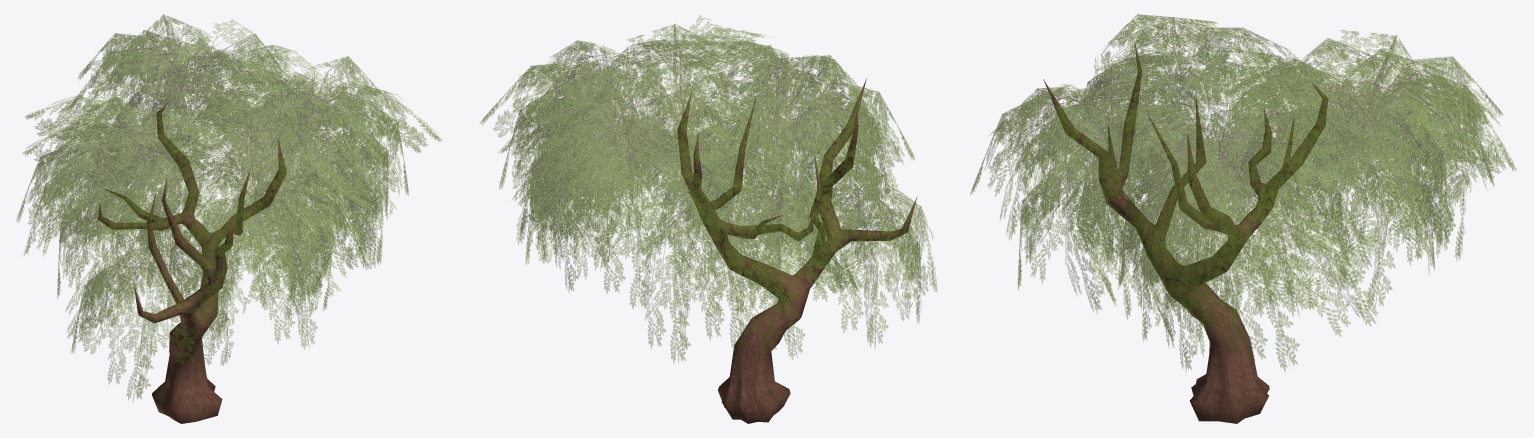
The model's file is tree0.DAE.
3 renders of one model, left to right at view 1: azimuth 30°, elevation 25°; view 2: azimuth 150°, elevation 25°; view 3: azimuth 270°, elevation 25°, orthographic. The views are drawn at different scales.
Parts seen in each view (by area): view 1: treebrown2_leaves.001, treebrown_002; view 2: treebrown2_leaves.001, treebrown_002; view 3: treebrown2_leaves.001, treebrown_002.
Part boxes in pixels (x1,y1,x2,y2): treebrown2_leaves.001: (16,14,441,402); treebrown_002: (98,101,286,423); treebrown2_leaves.001: (480,15,937,363); treebrown_002: (677,78,917,423); treebrown2_leaves.001: (970,14,1516,372); treebrown_002: (1043,40,1327,423).
Bounding box in the file's own units: 457 × 372 × 482.
